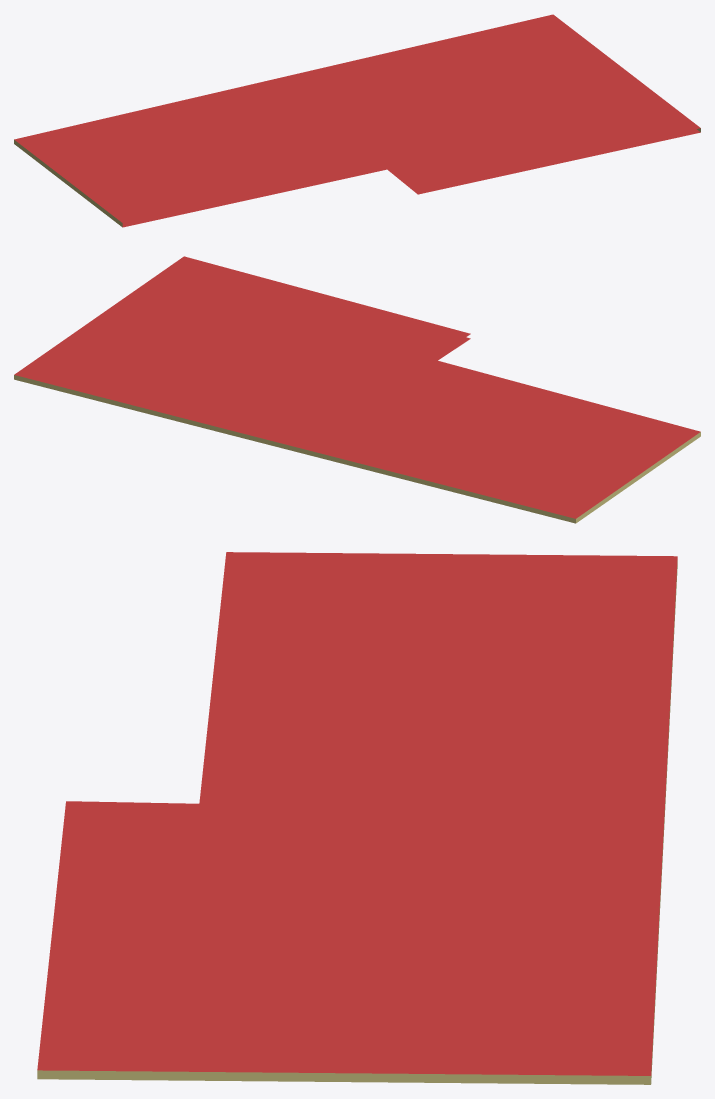
The picture shows the model from 3 angles, top to bottom: view 1: azimuth 30°, elevation 25°; view 2: azimuth 150°, elevation 25°; view 3: azimuth 270°, elevation 25°; orthographic projection. The views are drawn at different scales.
Parts seen in each view (by area): view 1: group_3, group_5, group_4; view 2: group_3, group_4; view 3: group_3, group_4.
Boxes of the visible parts, x1,y1,x2,y2 form: group_3: [14, 14, 700, 222]; group_5: [122, 129, 700, 227]; group_4: [14, 128, 700, 227]; group_3: [14, 256, 700, 518]; group_4: [14, 375, 700, 523]; group_3: [37, 552, 677, 1075]; group_4: [37, 560, 677, 1084].
Size of the model in its own units: 12.69 by 6.55 by 0.1.
